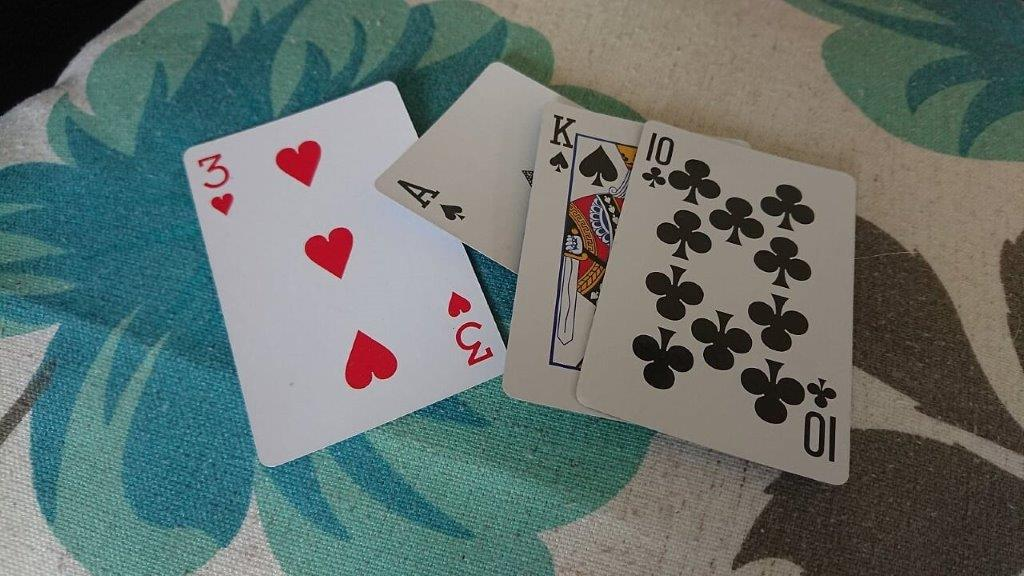10C: (638, 126, 682, 196)
3H: (189, 145, 249, 228)
KS: (544, 108, 584, 175)
